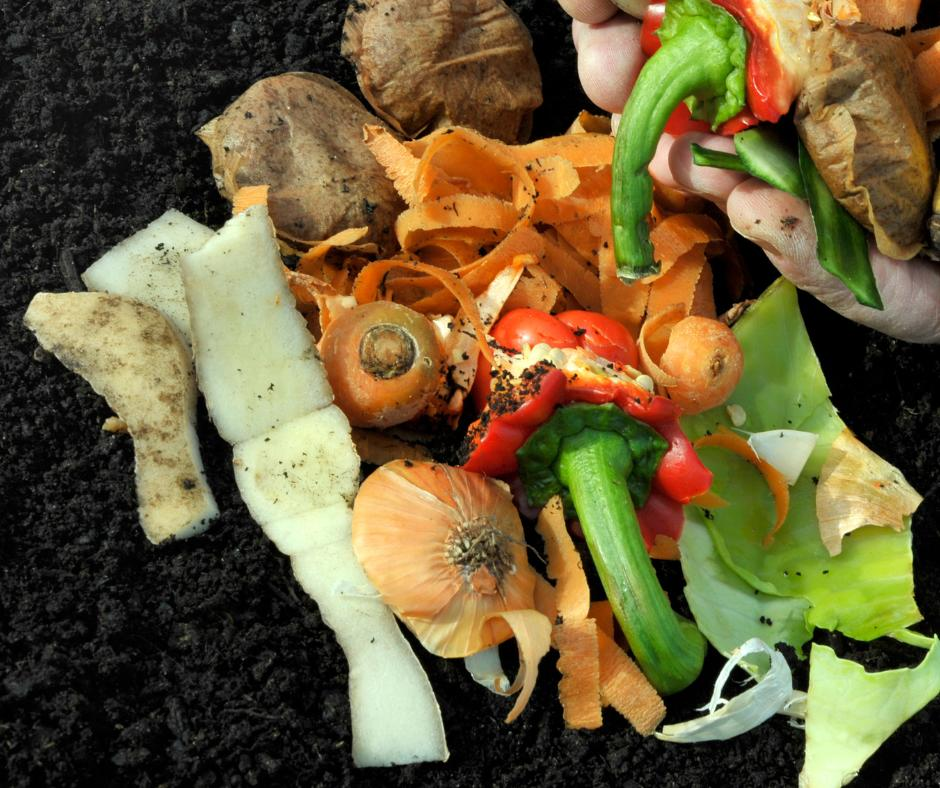organic: (190, 207, 452, 770), (465, 303, 709, 694), (22, 295, 224, 543), (542, 404, 711, 687), (194, 74, 430, 259), (350, 460, 539, 658), (339, 0, 552, 139), (604, 52, 675, 286), (320, 299, 442, 430), (641, 0, 861, 46), (655, 315, 747, 410)
